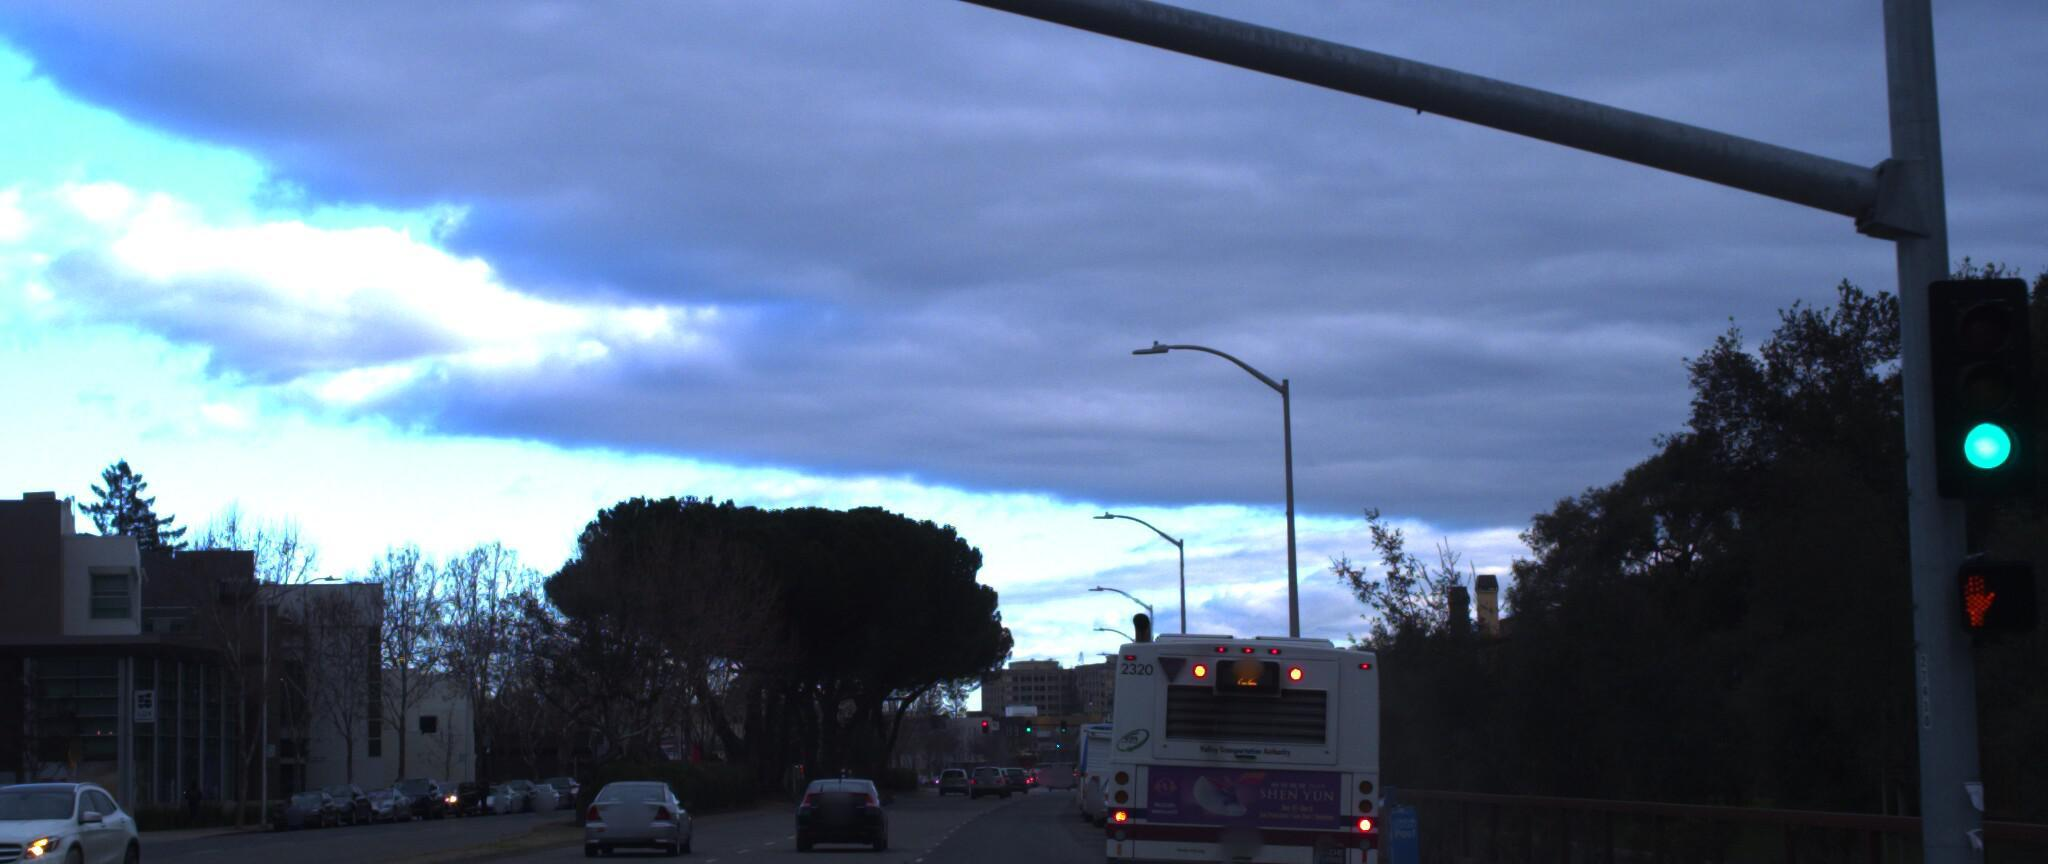bus: (1085, 604, 1395, 864)
car: (0, 775, 152, 864), (579, 767, 705, 850), (788, 767, 892, 852)
